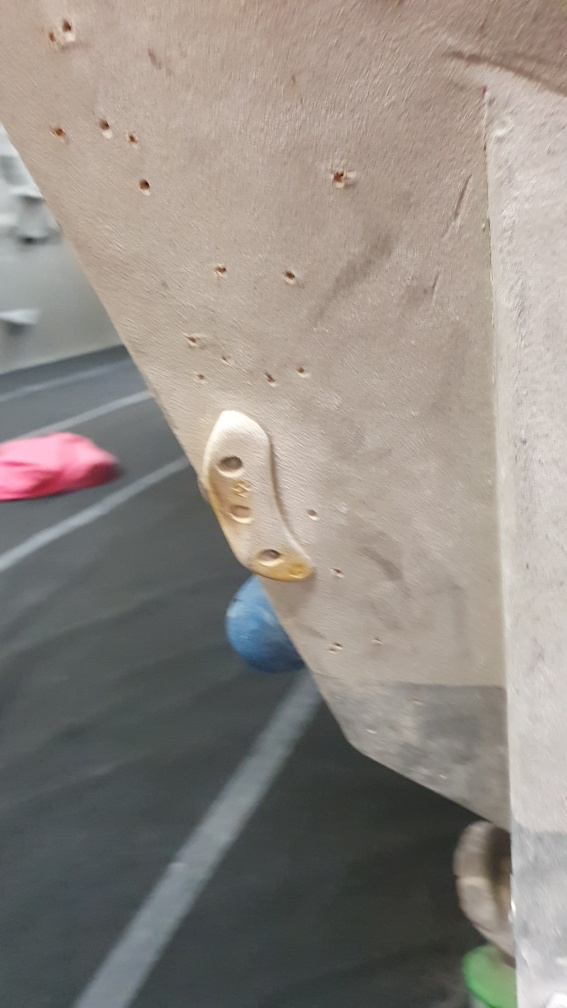Crimp: (198, 405, 321, 588)
Jug: (452, 814, 527, 954)
